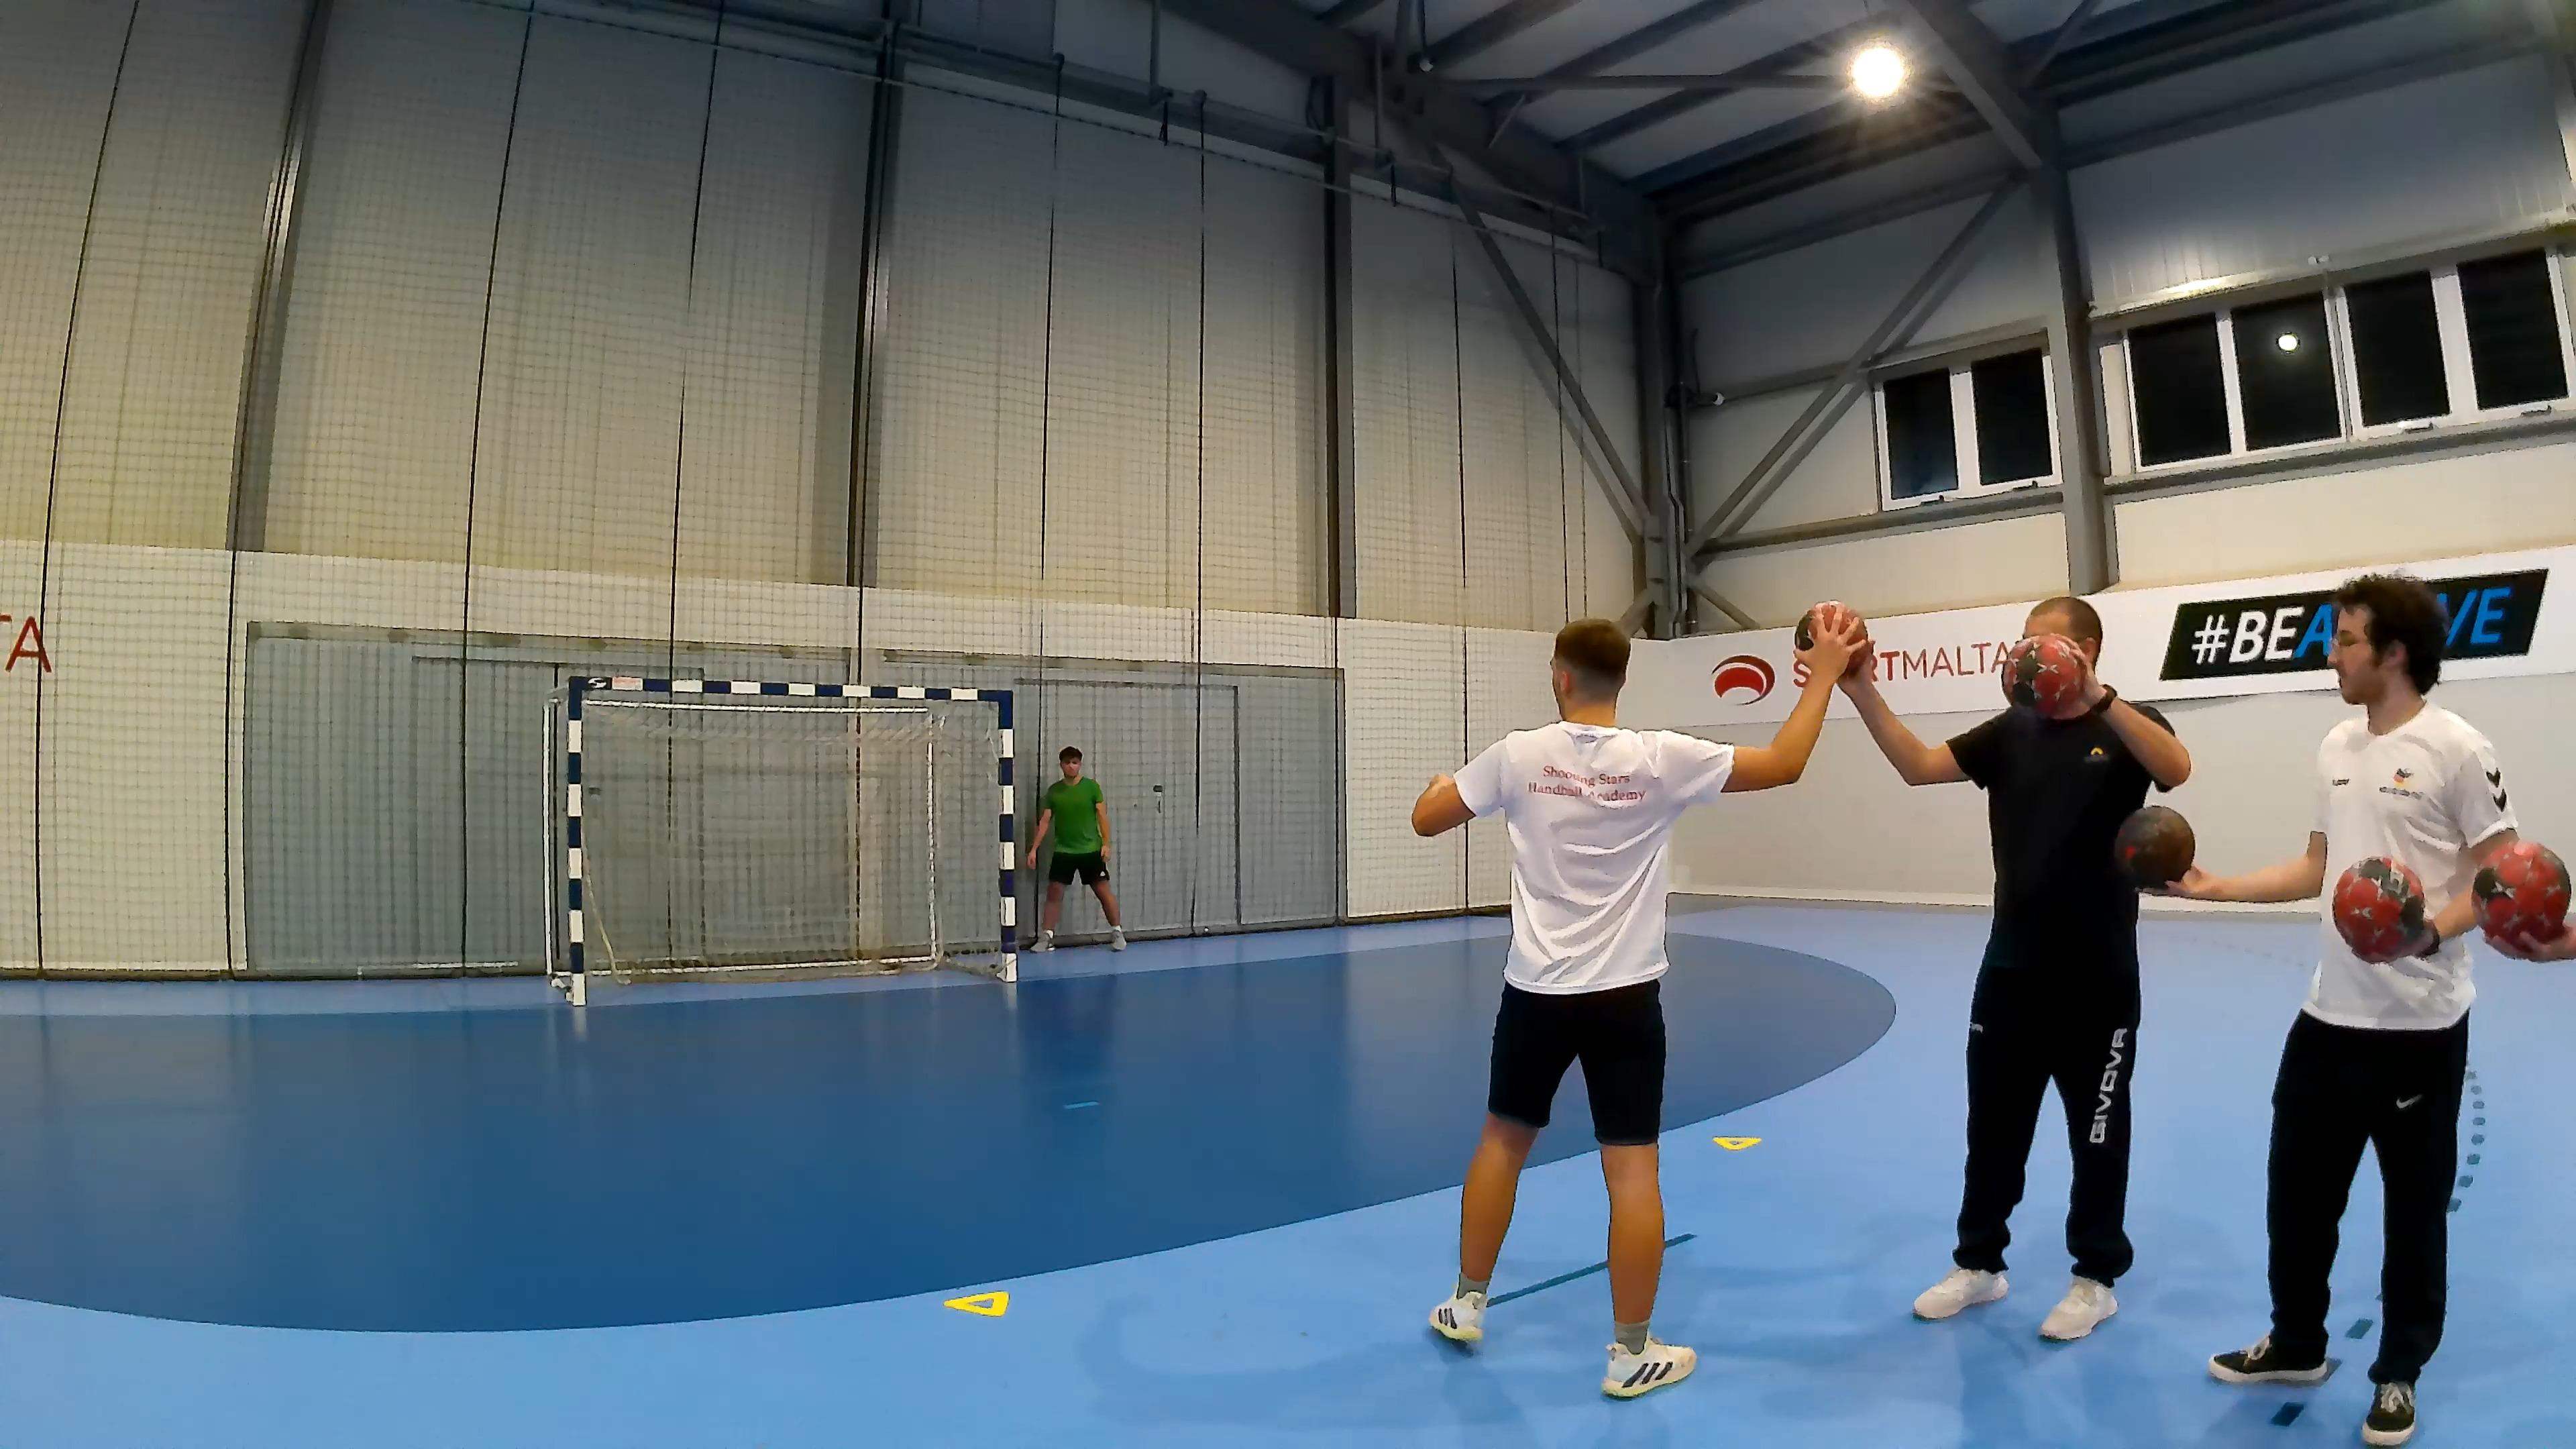handball: (2470, 839, 2571, 959), (2330, 855, 2431, 962), (2001, 633, 2088, 718), (2112, 803, 2194, 890), (1792, 600, 1874, 678)
